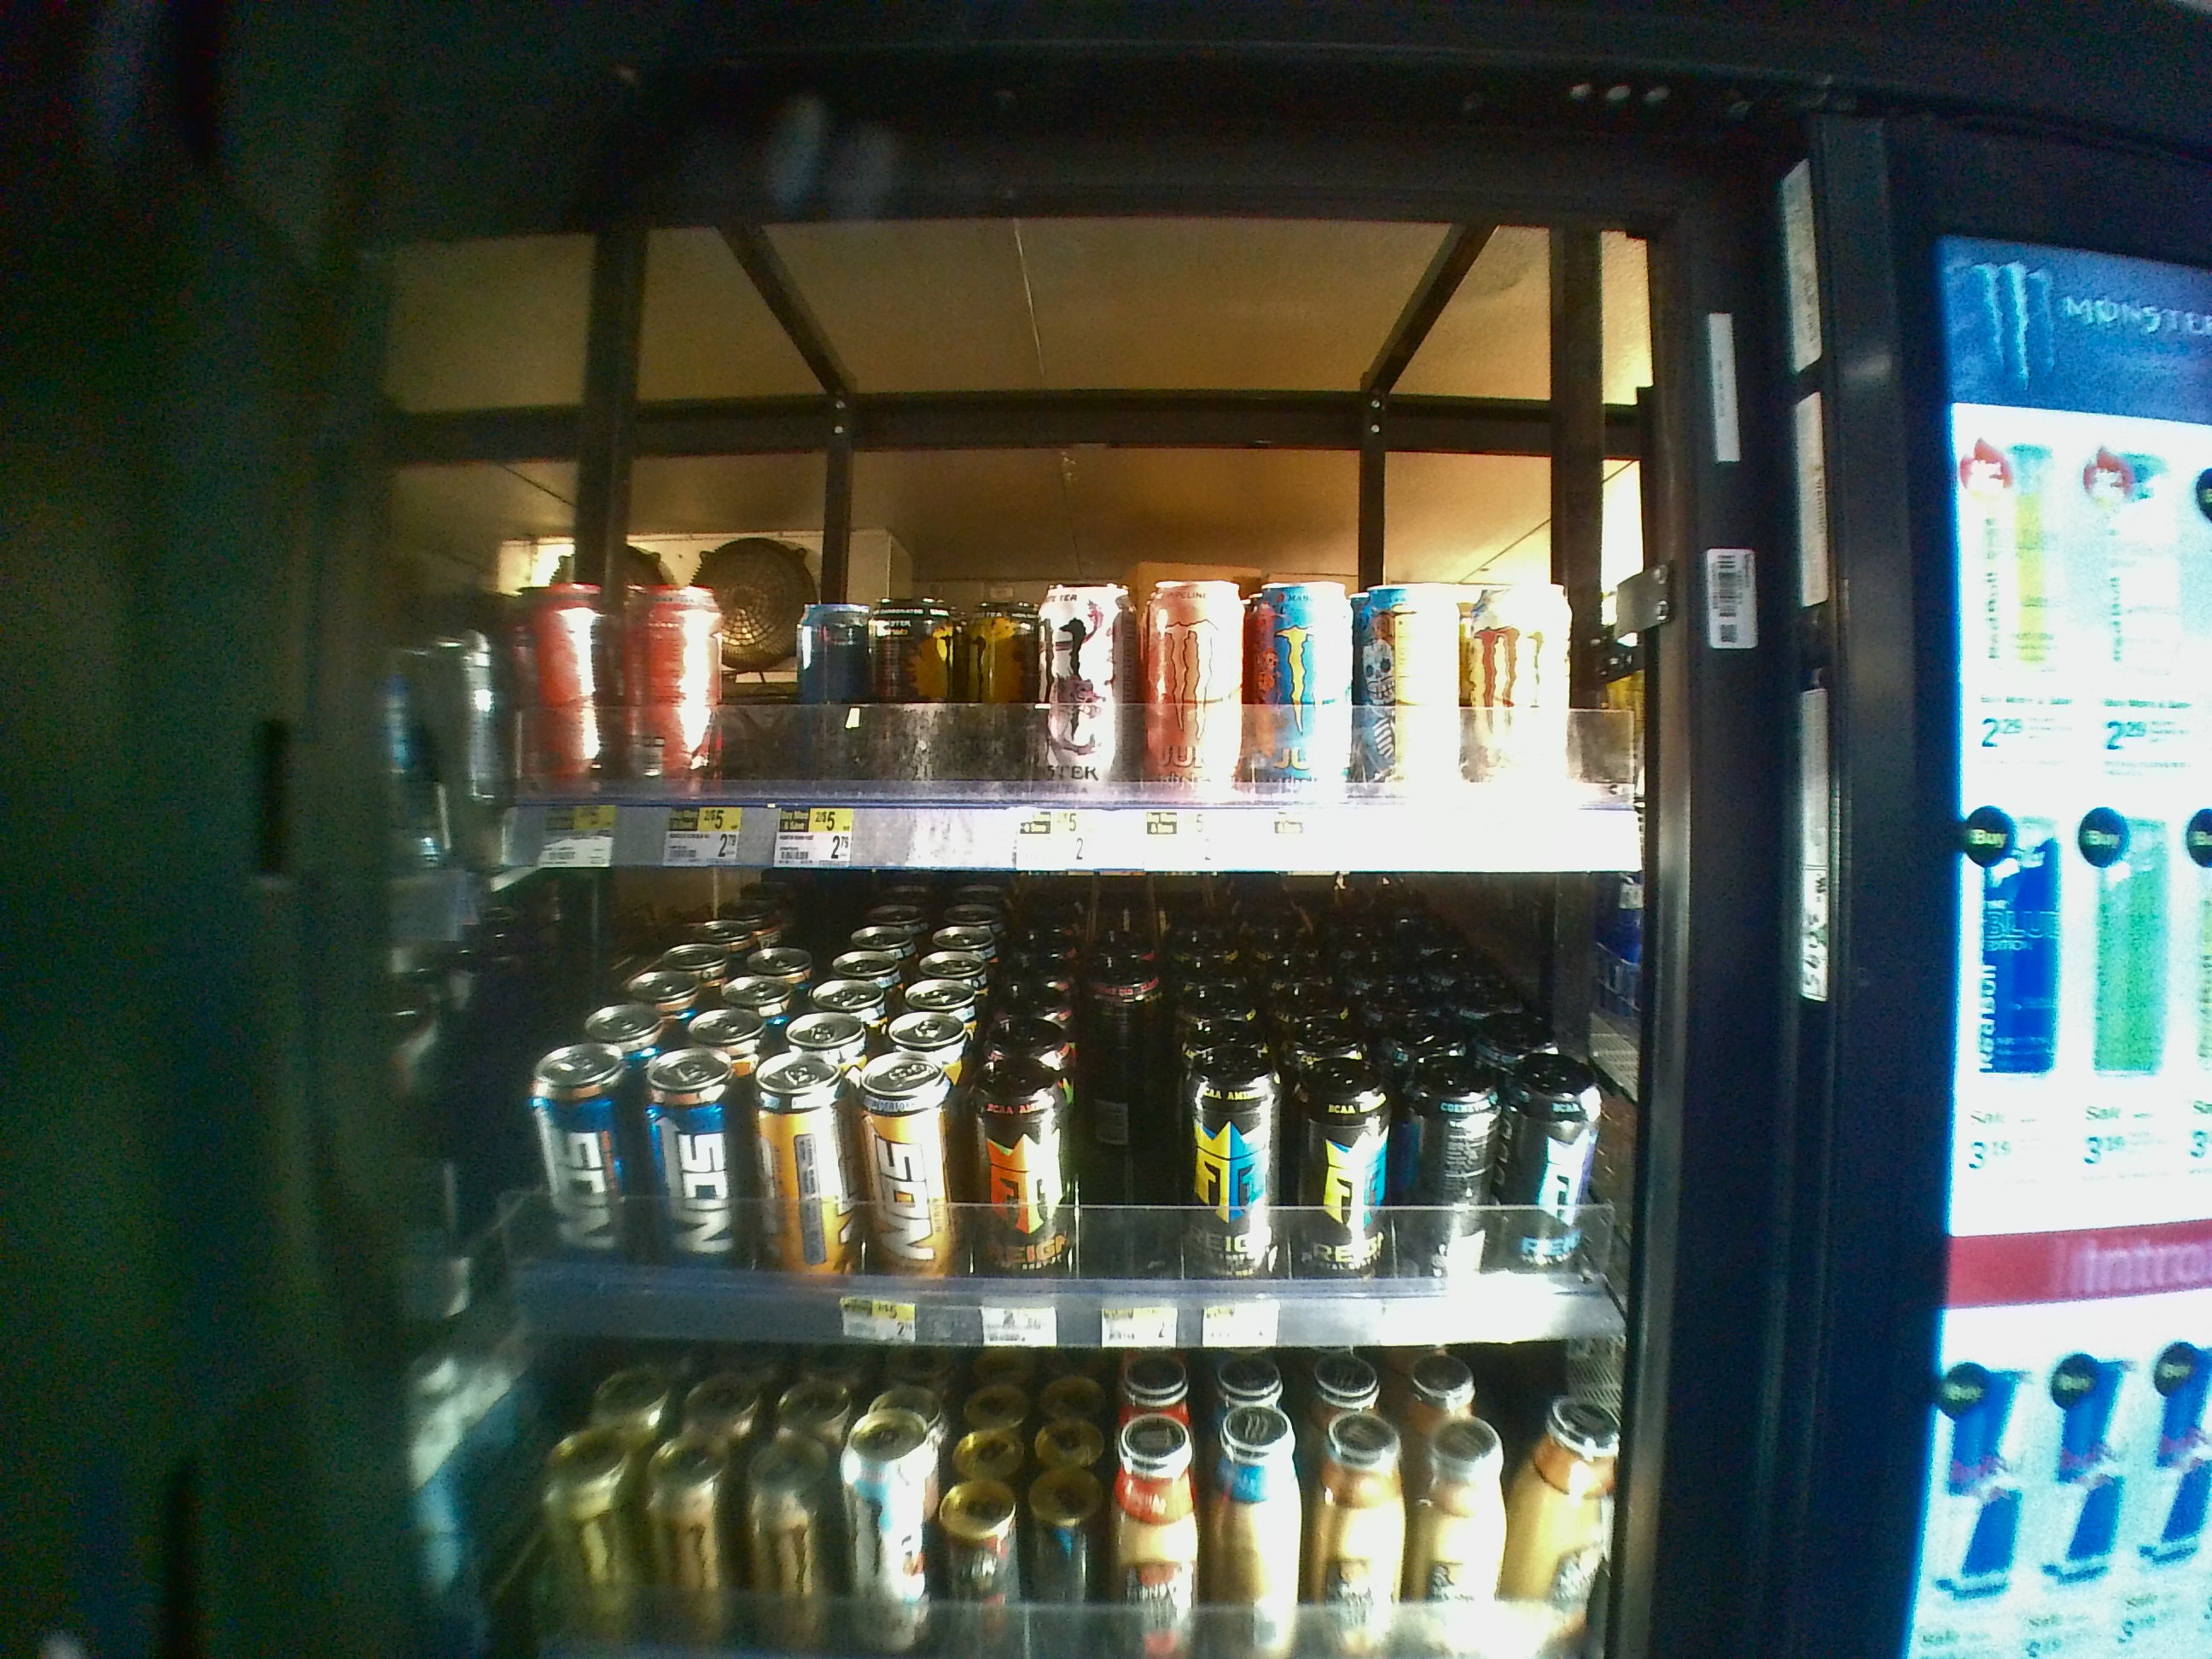shelf: (357, 221, 1676, 871), (348, 863, 1676, 1331)
